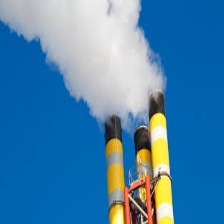smoke: (5, 1, 167, 111)
